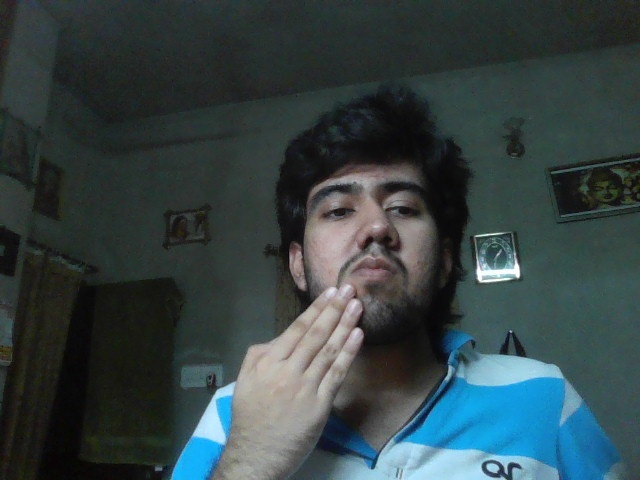ThankYou: (232, 284, 367, 460)
